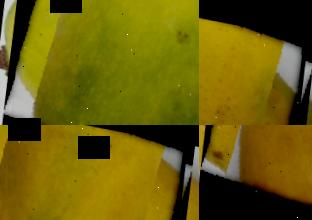PartiallyRipe: (3, 0, 199, 125), (199, 0, 312, 125)
Ripe: (0, 125, 191, 220), (200, 125, 312, 220)
